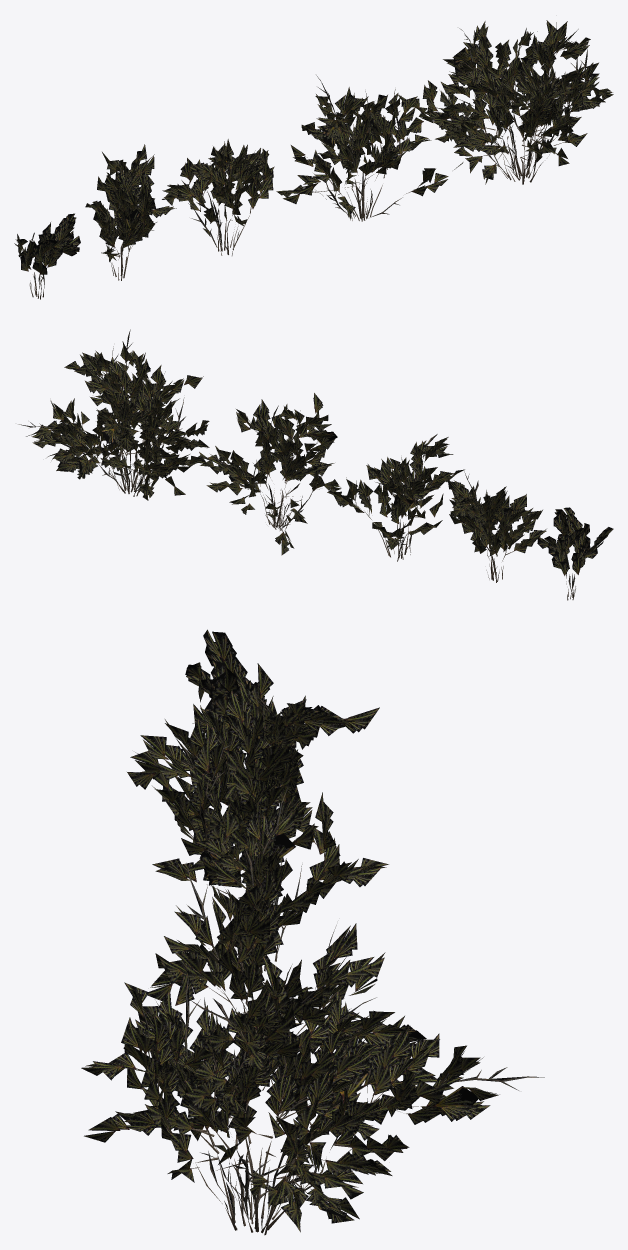
The model's file is wild_rooibos_bush.light.glb.
3 views of the same model, one above another, from view 1: azimuth 30°, elevation 25°; view 2: azimuth 150°, elevation 25°; view 3: azimuth 270°, elevation 25° (orthographic). The views are drawn at different scales.
Visible parts, largest first — view 1: wild_rooibos_bush_a, wild_rooibos_bush_b, wild_rooibos_bush_c, wild_rooibos_bush_d, wild_rooibos_bush_e; view 2: wild_rooibos_bush_a, wild_rooibos_bush_b, wild_rooibos_bush_c, wild_rooibos_bush_d, wild_rooibos_bush_e; view 3: wild_rooibos_bush_a, wild_rooibos_bush_b, wild_rooibos_bush_c, wild_rooibos_bush_d, wild_rooibos_bush_e.
Part boxes in pixels (box(x1,y1,x2,y2)): wild_rooibos_bush_a: box(398, 20, 613, 184); wild_rooibos_bush_b: box(276, 75, 448, 221); wild_rooibos_bush_c: box(162, 139, 274, 255); wild_rooibos_bush_d: box(85, 144, 176, 280); wild_rooibos_bush_e: box(14, 213, 80, 299); wild_rooibos_bush_a: box(18, 329, 218, 500); wild_rooibos_bush_b: box(200, 393, 341, 555); wild_rooibos_bush_c: box(327, 434, 464, 561); wild_rooibos_bush_d: box(447, 471, 546, 582); wild_rooibos_bush_e: box(537, 507, 613, 600); wild_rooibos_bush_a: box(81, 955, 544, 1235); wild_rooibos_bush_b: box(138, 784, 386, 1090); wild_rooibos_bush_c: box(127, 717, 388, 973); wild_rooibos_bush_d: box(165, 663, 379, 858); wild_rooibos_bush_e: box(185, 629, 268, 760).
Bounding box in the file's own units: 1.99 × 0.4677 × 0.7265.
Materials: 2 (2 with a texture image).
